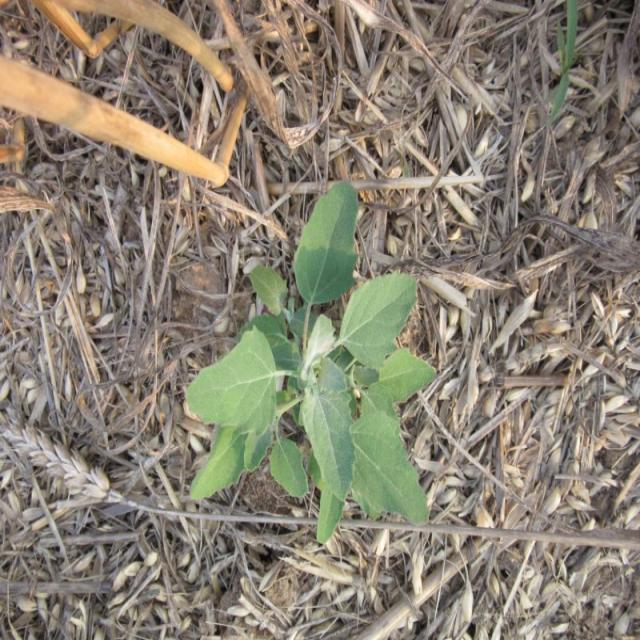ca: (190, 182, 432, 542)
